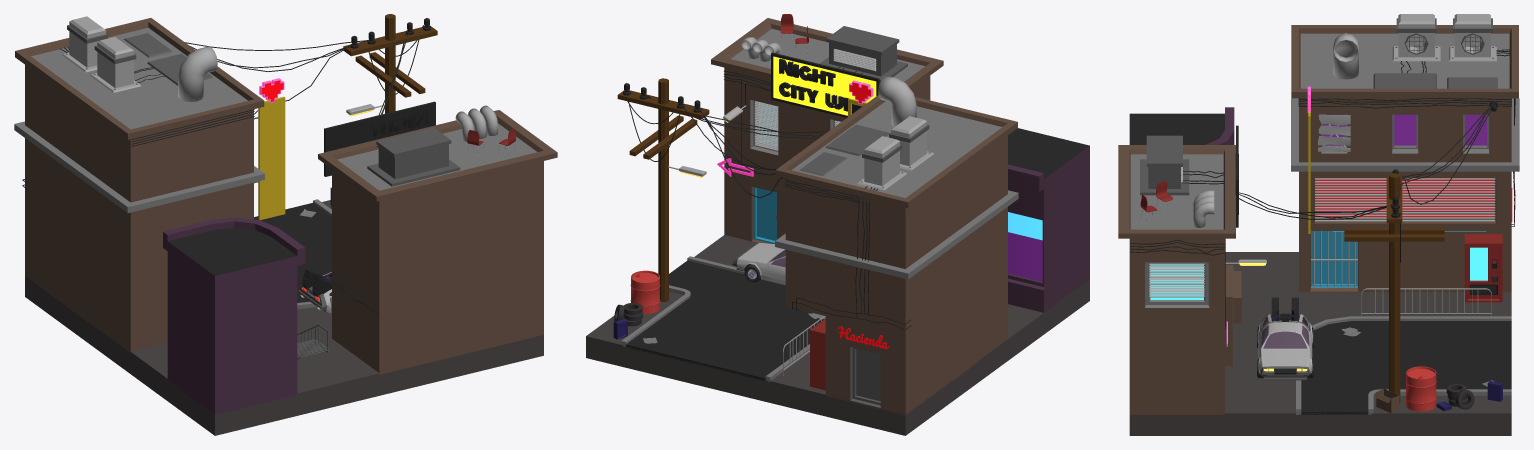
The model's file is cyberpunk.fbx.
3 renders of one model, left to right at view 1: azimuth 30°, elevation 25°; view 2: azimuth 150°, elevation 25°; view 3: azimuth 270°, elevation 25°, orthographic. The views are drawn at different scales.
Visible parts, largest first — view 1: Cube.001, Cube, Cube.002, Plane, Cube.006, Plane.011, Plane.001, Cylinder, Plane.012, Vert.010, Cube.005, Cube.004 (+3 smaller); view 2: Cube.001, Cube, Plane, Cube.002, Plane.001, Cylinder, Vert.010, Plane.012, Cube.006, Cube.004, car.008, Cube.005 (+8 smaller); view 3: Cube.001, Cube, Plane, Plane.001, Vert.008, Cylinder, Vert.010, car.008, Cube.002, Cube.022, Cube.006, Vert.007 (+11 smaller).
Boxes of the visible parts, left/top/right/bottom form: Cube.001: left=14, top=18, right=264, bottom=352; Cube: left=318, top=110, right=557, bottom=374; Cube.002: left=163, top=217, right=305, bottom=414; Plane: left=25, top=200, right=543, bottom=435; Cube.006: left=367, top=127, right=460, bottom=186; Plane.011: left=254, top=96, right=285, bottom=220; Plane.001: left=254, top=203, right=331, bottom=302; Cylinder: left=343, top=14, right=437, bottom=113; Plane.012: left=324, top=101, right=435, bottom=176; Vert.010: left=22, top=25, right=424, bottom=313; Cube.005: left=90, top=37, right=140, bottom=92; Cube.004: left=62, top=16, right=108, bottom=72; Cube.001: left=775, top=95, right=1018, bottom=415; Cube: left=711, top=18, right=943, bottom=243; Plane: left=586, top=235, right=1089, bottom=435; Cube.002: left=1008, top=128, right=1089, bottom=312; Plane.001: left=626, top=260, right=824, bottom=381; Cylinder: left=617, top=78, right=709, bottom=302; Vert.010: left=625, top=67, right=911, bottom=329; Plane.012: left=771, top=52, right=879, bottom=117; Cube.006: left=819, top=26, right=907, bottom=82; Cube.004: left=857, top=136, right=906, bottom=190; car.008: left=732, top=242, right=785, bottom=285; Cube.005: left=889, top=116, right=933, bottom=170; Cube.001: left=1291, top=25, right=1519, bottom=292; Cube: left=1118, top=145, right=1241, bottom=414; Plane: left=1129, top=252, right=1511, bottom=435; Plane.001: left=1301, top=321, right=1511, bottom=414; Vert.008: left=1315, top=178, right=1495, bottom=221; Cylinder: left=1344, top=173, right=1444, bottom=402; Vert.010: left=1130, top=49, right=1515, bottom=328; car.008: left=1257, top=297, right=1313, bottom=380; Cube.002: left=1129, top=107, right=1234, bottom=144; Cube.022: left=1464, top=234, right=1502, bottom=302; Cube.006: left=1140, top=135, right=1189, bottom=195; Vert.007: left=1149, top=263, right=1204, bottom=297.
Size of the model in its own units: 869 by 661 by 840.
